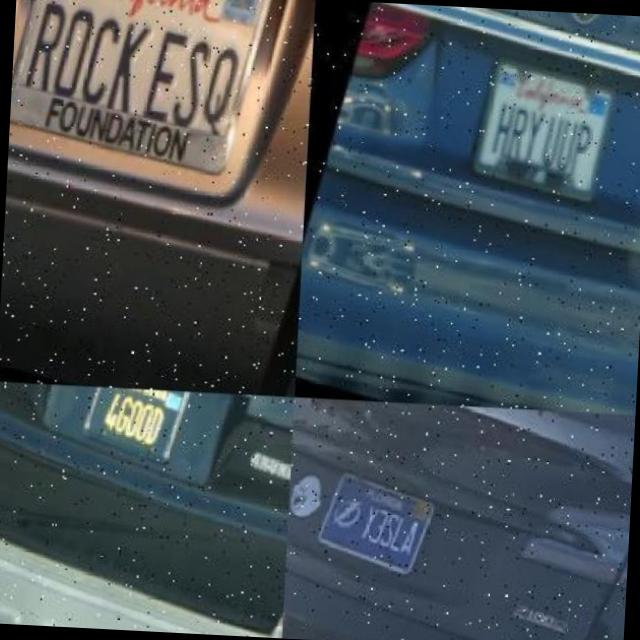LicensePlate: (8, 0, 272, 177), (471, 59, 623, 202), (315, 468, 438, 576), (78, 387, 200, 463)
